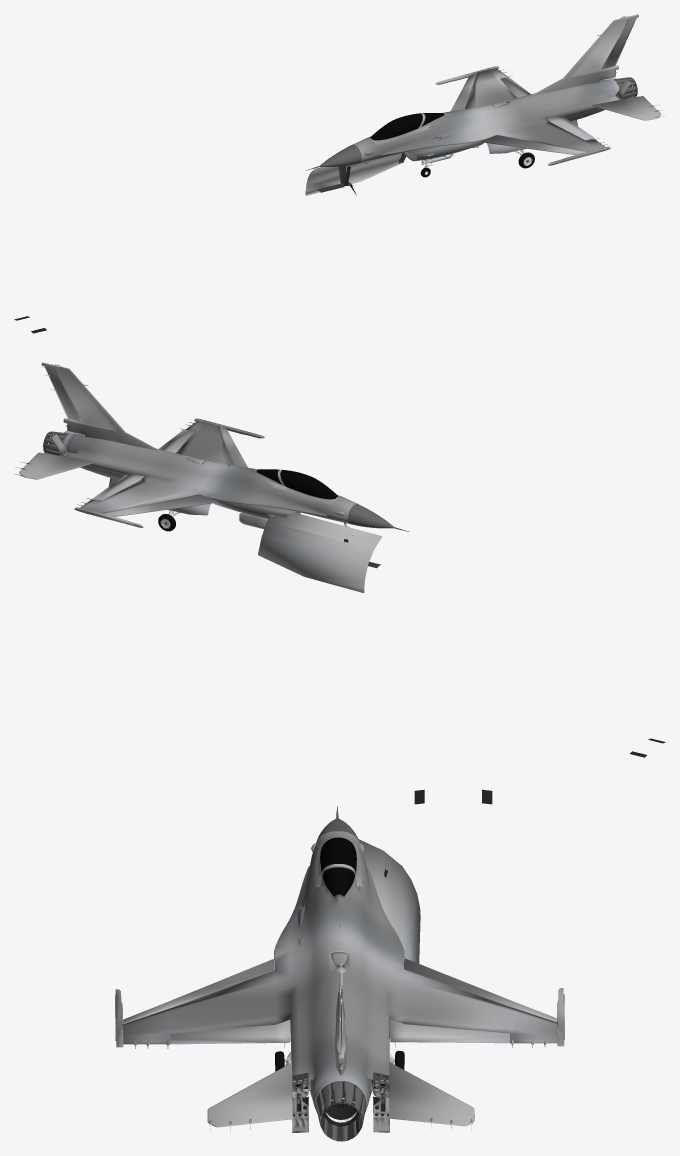
File: f_16a_blend_by_nilstheacevrchat_dkv153m.glb 1.glb
3 views of the same model, one above another, from view 1: azimuth 30°, elevation 25°; view 2: azimuth 150°, elevation 25°; view 3: azimuth 270°, elevation 25° (orthographic). The views are drawn at different scales.
Visible parts, largest first — view 1: _G-Object.001 (Loose Mesh), Gruppieren#16, _C-Gruppieren#18 (Loose Mesh).001, C-Gruppieren#26.001, C-Gruppieren#21.001, G-Object.002, G-Object.006; view 2: _G-Object.001 (Loose Mesh), Gruppieren#16, _C-Gruppieren#18 (Loose Mesh), C-Gruppieren#26, C-Gruppieren#21, G-Object.002, G-Object.006; view 3: _G-Object.001 (Loose Mesh), Gruppieren#16, _C-Gruppieren#18 (Loose Mesh).001, _C-Gruppieren#18 (Loose Mesh), C-Gruppieren#20, C-Gruppieren#20.001, C-Gruppieren#21.001, C-Gruppieren#21, _C-Gruppieren#24 (Loose Mesh), _C-Gruppieren#24 (Loose Mesh).001, C-Gruppieren#26.001, C-Gruppieren#26.
Part boxes in pixels (left/top/right/bottom): _G-Object.001 (Loose Mesh): left=353, top=14, right=638, bottom=165; Gruppieren#16: left=305, top=152, right=406, bottom=195; _C-Gruppieren#18 (Loose Mesh).001: left=592, top=96, right=661, bottom=120; C-Gruppieren#26.001: left=371, top=113, right=444, bottom=140; C-Gruppieren#21.001: left=481, top=135, right=586, bottom=154; G-Object.002: left=305, top=144, right=361, bottom=170; G-Object.006: left=601, top=18, right=639, bottom=69; _G-Object.001 (Loose Mesh): left=41, top=362, right=357, bottom=527; Gruppieren#16: left=258, top=513, right=382, bottom=592; _C-Gruppieren#18 (Loose Mesh): left=19, top=452, right=94, bottom=479; C-Gruppieren#26: left=256, top=469, right=336, bottom=499; C-Gruppieren#21: left=102, top=494, right=217, bottom=516; G-Object.002: left=347, top=503, right=408, bottom=531; G-Object.006: left=41, top=366, right=83, bottom=422; _G-Object.001 (Loose Mesh): left=115, top=831, right=564, bottom=1122; Gruppieren#16: left=358, top=839, right=420, bottom=965; _C-Gruppieren#18 (Loose Mesh).001: left=207, top=1063, right=292, bottom=1127; _C-Gruppieren#18 (Loose Mesh): left=389, top=1062, right=474, bottom=1126; C-Gruppieren#20: left=170, top=1019, right=290, bottom=1044; C-Gruppieren#20.001: left=389, top=1019, right=509, bottom=1043; C-Gruppieren#21.001: left=122, top=959, right=274, bottom=1024; C-Gruppieren#21: left=404, top=958, right=556, bottom=1022; _C-Gruppieren#24 (Loose Mesh): left=292, top=1072, right=308, bottom=1132; _C-Gruppieren#24 (Loose Mesh).001: left=373, top=1072, right=389, bottom=1132; C-Gruppieren#26.001: left=320, top=837, right=338, bottom=896; C-Gruppieren#26: left=338, top=837, right=356, bottom=896.
Bounding box in the file's own units: 9.61 × 2.99 × 3.18.
17 materials, 1 textured.
